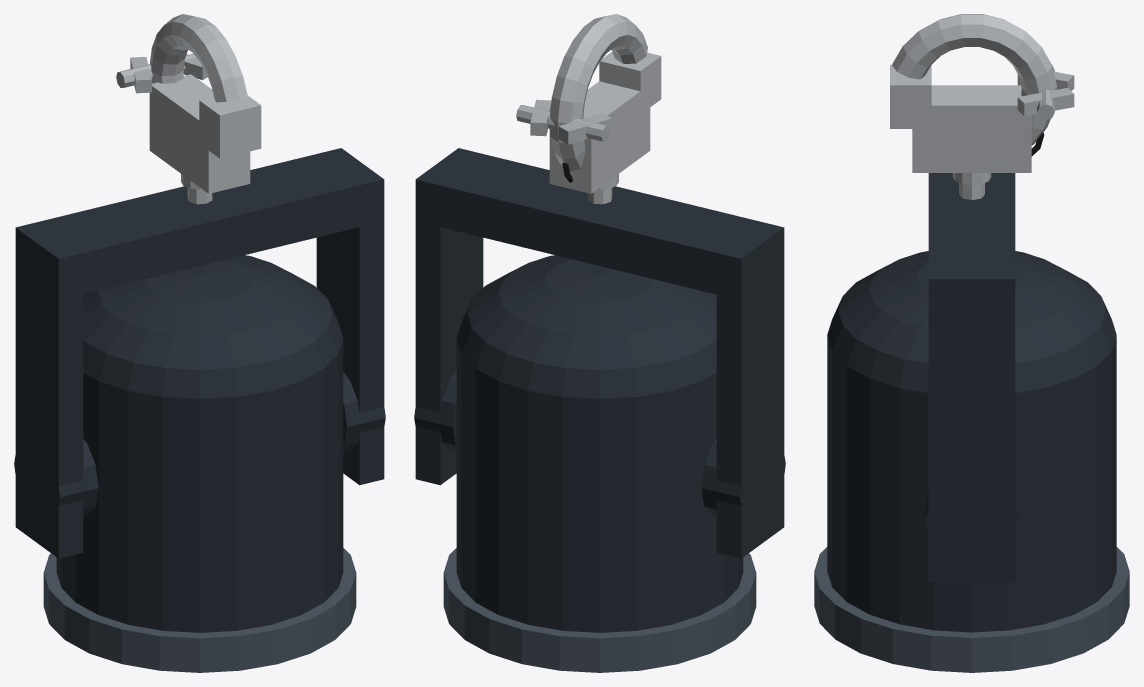
File: led-par-pizza.glb
3 views of the same model, side by side, from view 1: azimuth 30°, elevation 25°; view 2: azimuth 150°, elevation 25°; view 3: azimuth 270°, elevation 25° (orthographic).
Visible parts, largest first — view 1: par-can, hanging-frame, truss-coupler, lens-ring, truss-coupler-bolt; view 2: par-can, hanging-frame, truss-coupler, lens-ring, truss-coupler-bolt; view 3: par-can, hanging-frame, truss-coupler, lens-ring, truss-coupler-bolt.
Boxes of the visible parts, left/top/right/bottom form: par-can: left=56, top=255, right=343, bottom=632; hanging-frame: left=14, top=148, right=385, bottom=558; truss-coupler: left=149, top=14, right=261, bottom=204; lens-ring: left=43, top=548, right=356, bottom=672; truss-coupler-bolt: left=116, top=53, right=207, bottom=93; par-can: left=456, top=255, right=743, bottom=632; hanging-frame: left=414, top=148, right=785, bottom=558; truss-coupler: left=549, top=14, right=661, bottom=204; lens-ring: left=443, top=548, right=756, bottom=672; truss-coupler-bolt: left=516, top=99, right=611, bottom=144; par-can: left=827, top=251, right=1116, bottom=632; hanging-frame: left=925, top=173, right=1018, bottom=581; truss-coupler: left=890, top=14, right=1056, bottom=199; lens-ring: left=814, top=547, right=1129, bottom=672; truss-coupler-bolt: left=1017, top=64, right=1074, bottom=119.
Bounding box in the file's own units: 0.236 × 0.4138 × 0.196.
